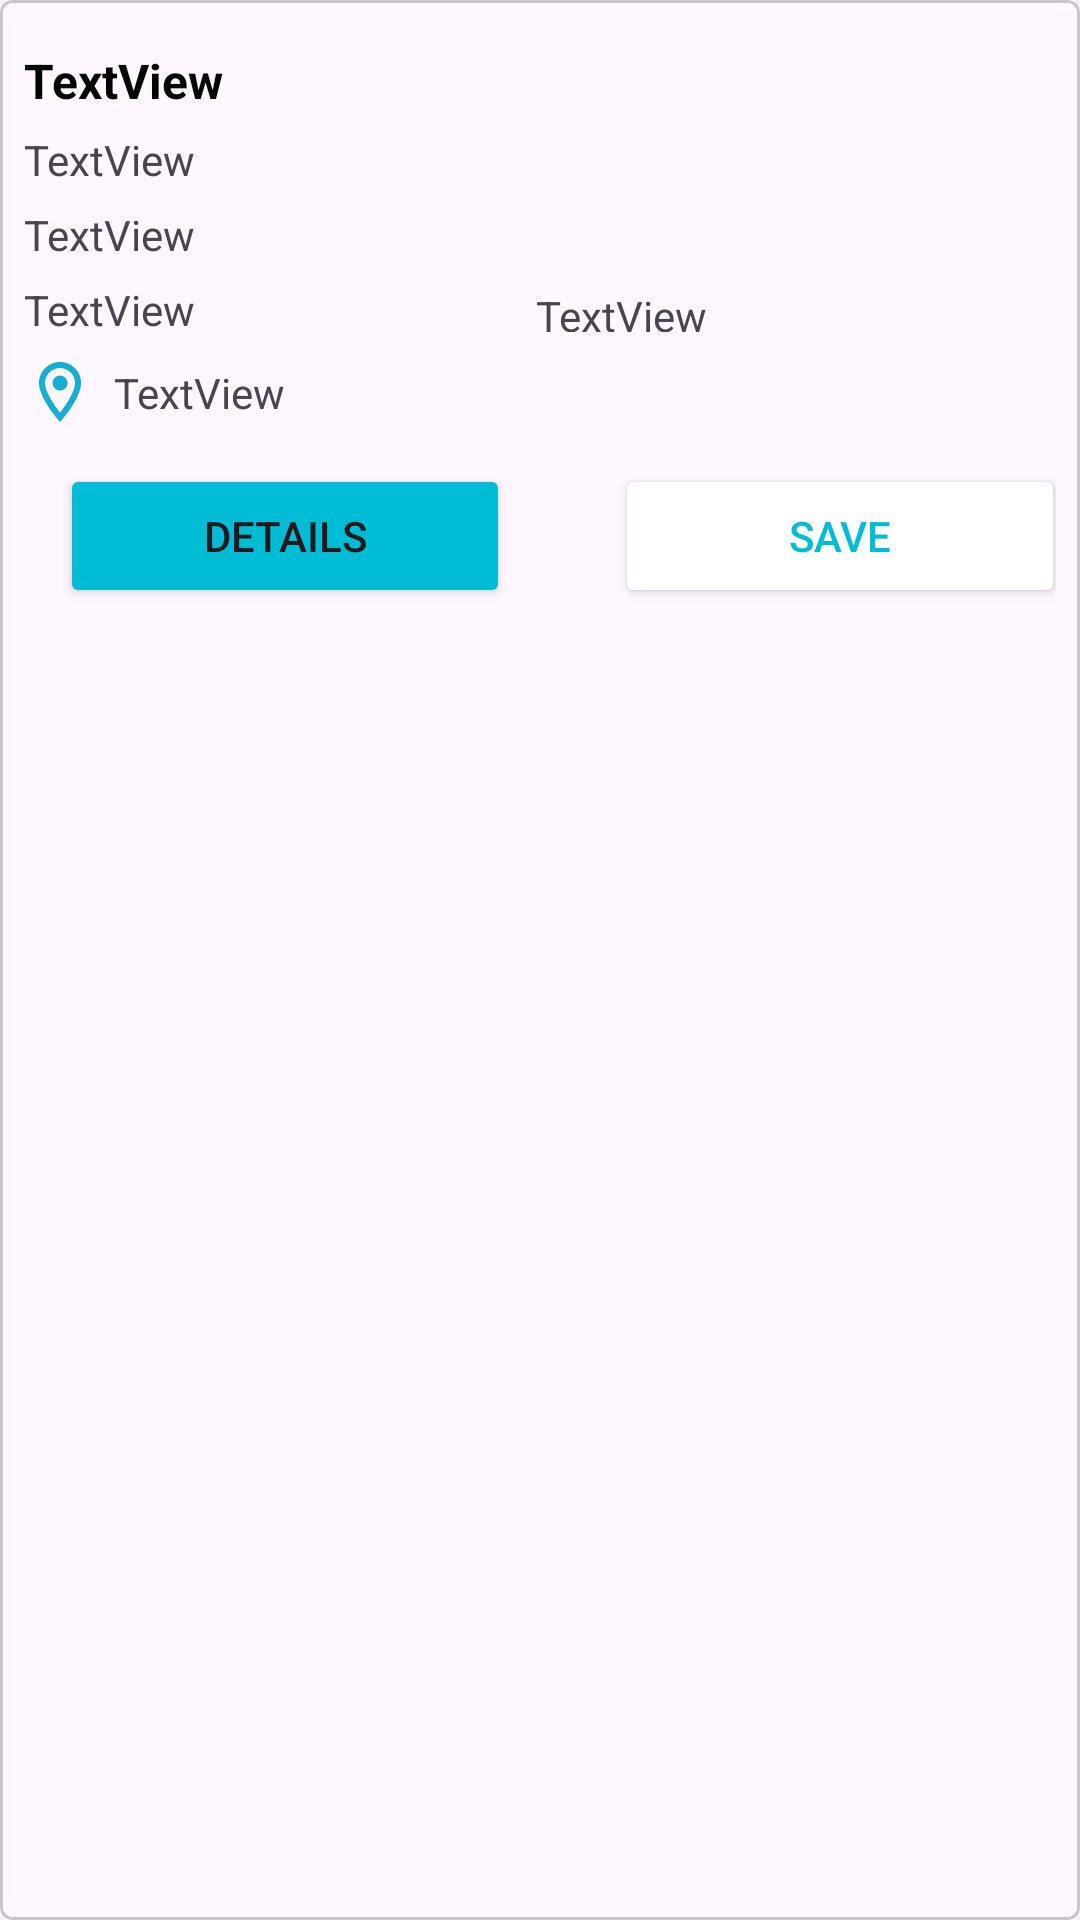

Icons on this 1080 x 1920 Android screen, each with its box as (x1, y1, x2, y2):
location on: (39, 362, 81, 422)
